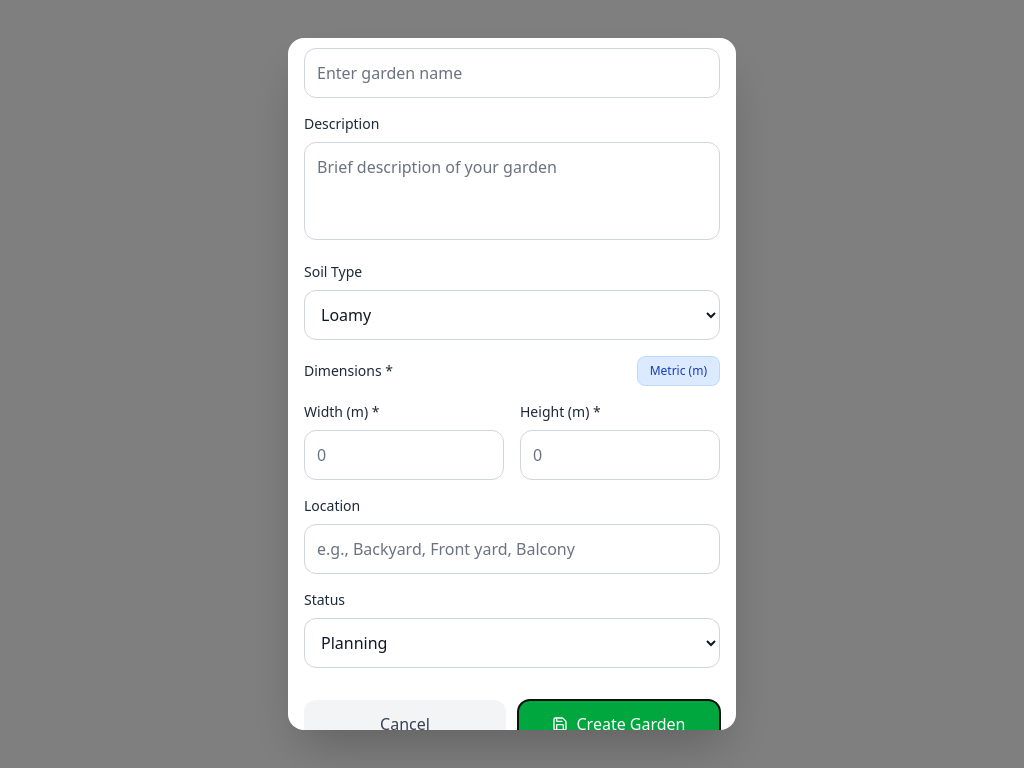
Test: GardenForm validation › preserves a new field focus before delayed client validation focus
The image size is (1024, 768).
(page scrolled)
Submit the form named "create garden", box [288,4,736,764]
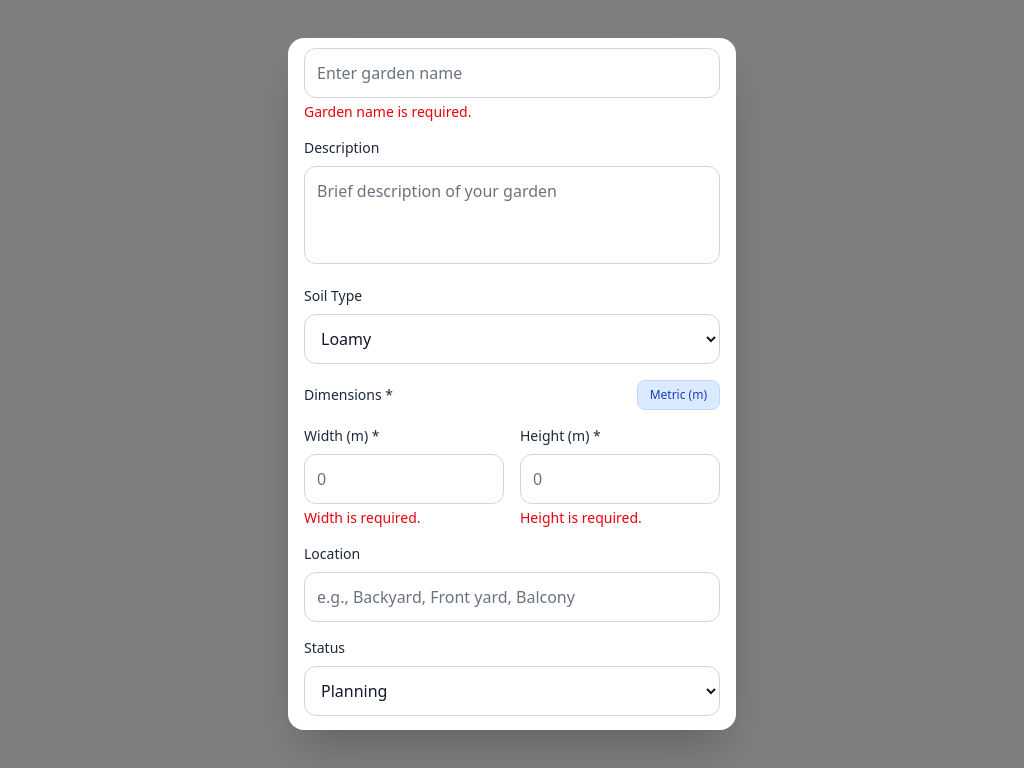
Expected: the text "Garden name is required." is shown, [304,102,472,121]
Type "Before" into the text box labelled "Description" at (512, 215), box [304,166,720,264]
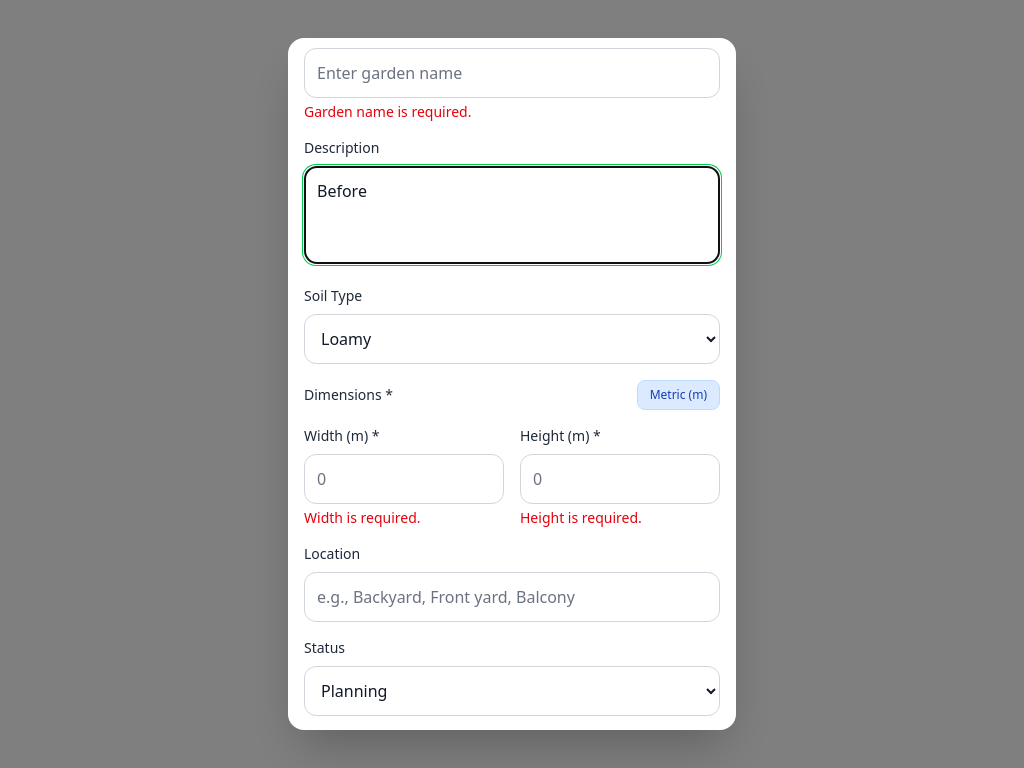
Type keys " after"
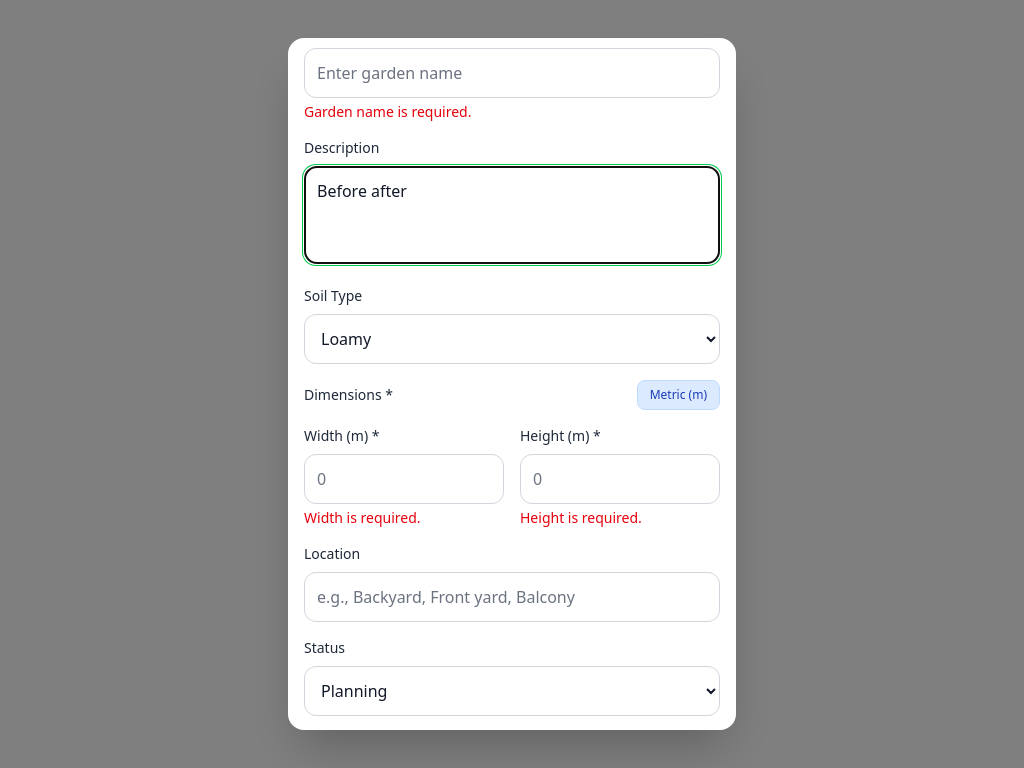
Expected: the text box labelled "Description" holds "Before after", [304,166,720,264]
